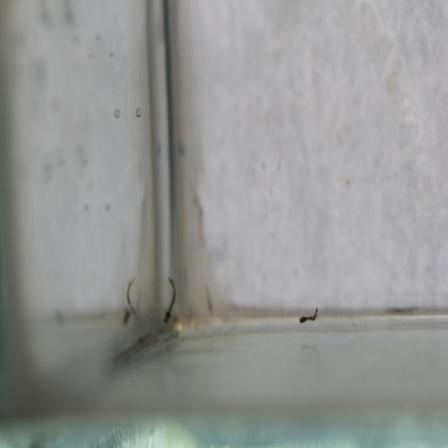Jentik-Nyamuk: (164, 276, 181, 330), (299, 305, 324, 327)
